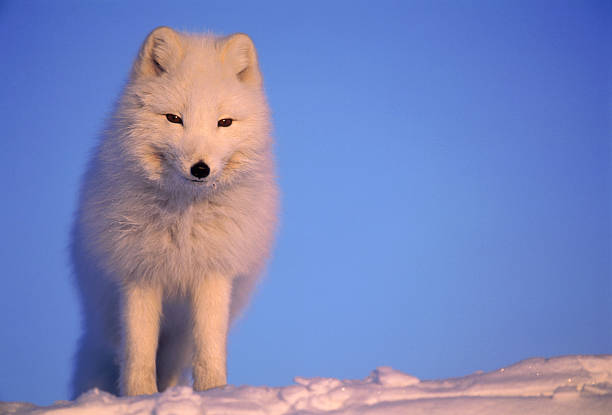arcticfox: (137, 47, 251, 215)
